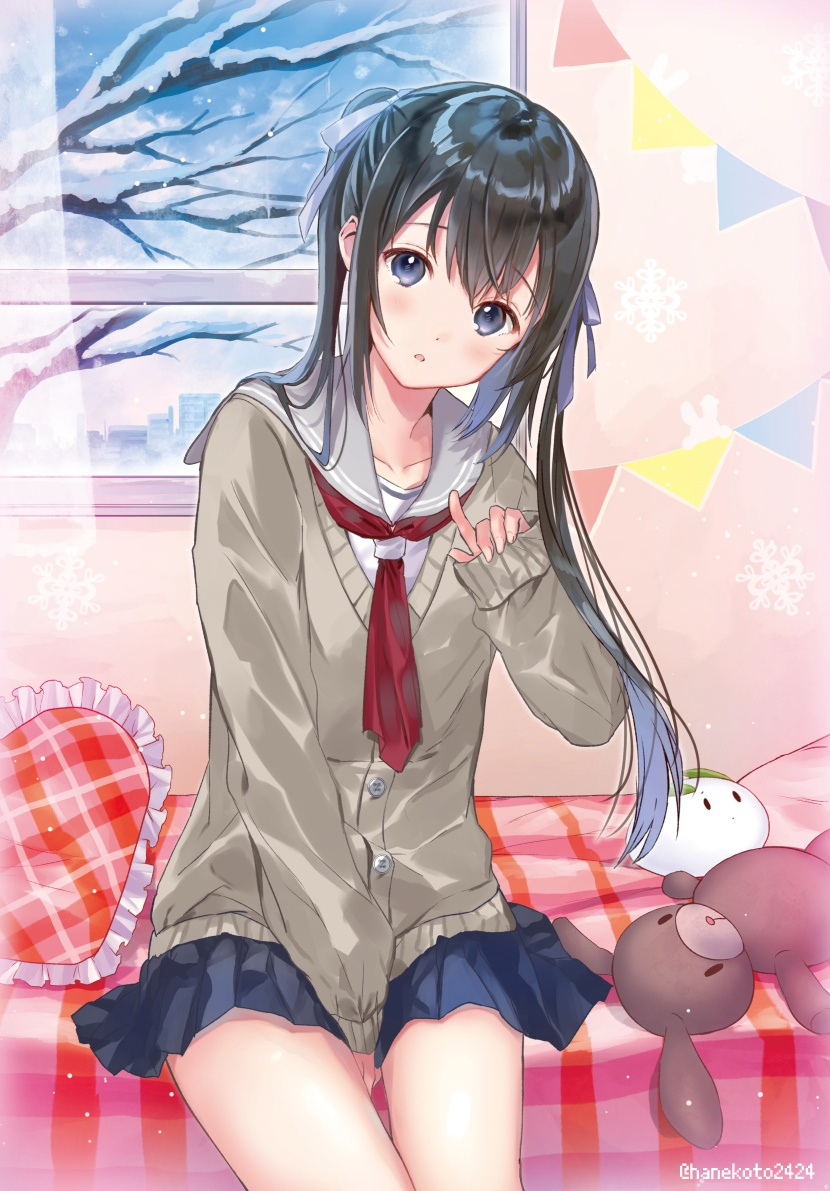纸片人正脸: (298, 80, 600, 400), (616, 898, 756, 1032)
